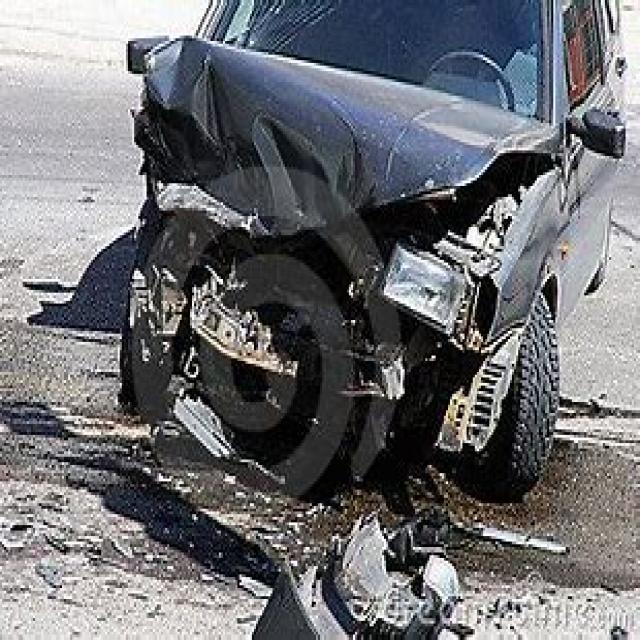Accident: (80, 62, 582, 640)
